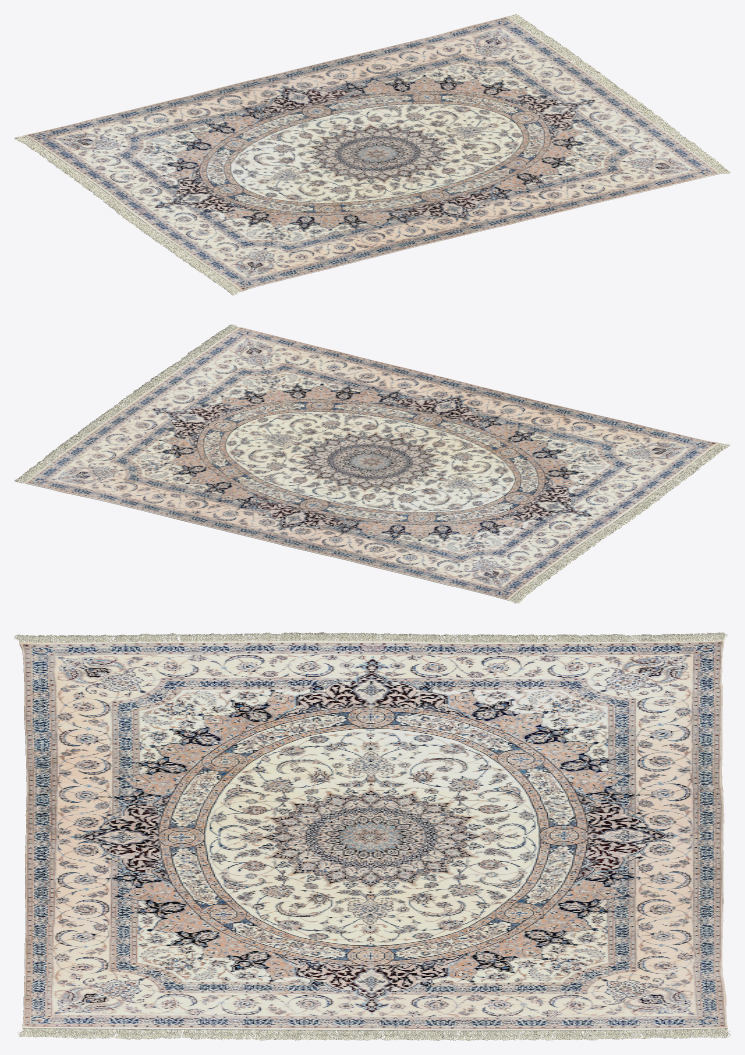
File: persian_nain_carpet.glb
The picture shows the model from 3 angles, top to bottom: view 1: azimuth 30°, elevation 25°; view 2: azimuth 150°, elevation 25°; view 3: azimuth 270°, elevation 25°; orthographic projection. The views are drawn at different scales.
Parts seen in each view (by area): view 1: Persian Nain Carpet_2, frange1_0, frange2_1; view 2: Persian Nain Carpet_2, frange1_0, frange2_1; view 3: Persian Nain Carpet_2, frange2_1, frange1_0.
Part boxes in pixels (x1,y1,x2,y2): Persian Nain Carpet_2: (24,16,719,291); frange1_0: (14,135,240,295); frange2_1: (507,14,730,173); Persian Nain Carpet_2: (25,327,719,600); frange1_0: (508,443,730,603); frange2_1: (14,324,238,483); Persian Nain Carpet_2: (19,640,727,1030); frange2_1: (17,1028,730,1040); frange1_0: (14,632,727,642).
Bounding box in the file's own units: 4.17 × 0.0246 × 3.1.
Materials: 2 (1 with a texture image).
